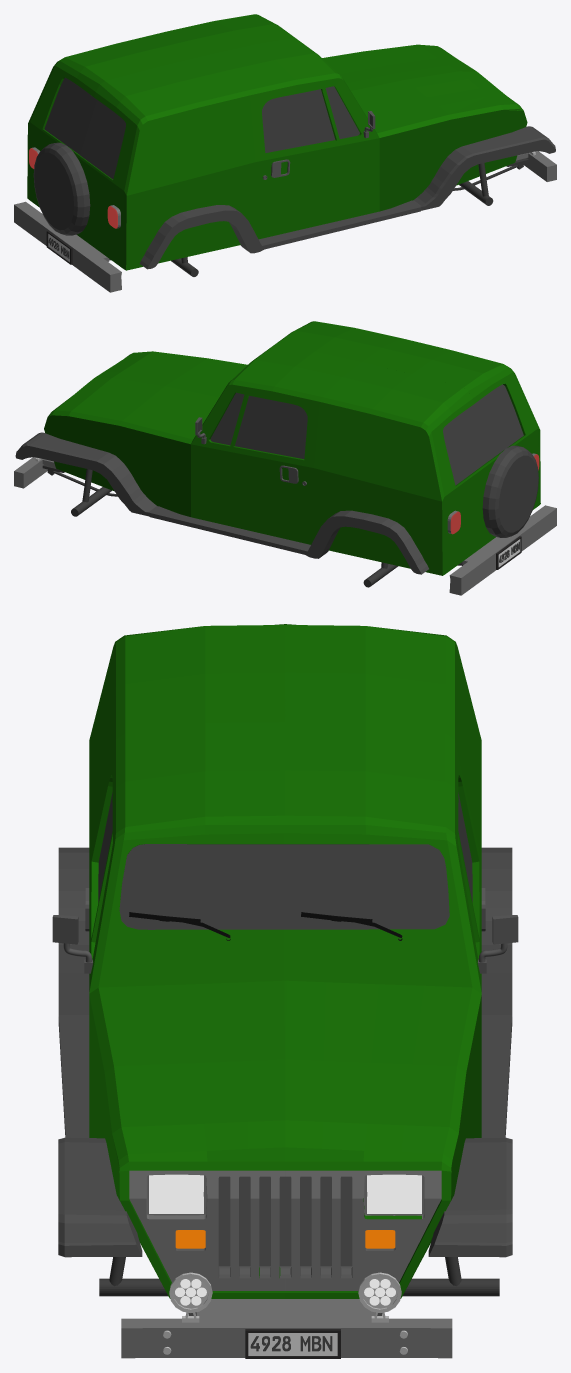
File: jeep.glb
3 renders of one model, top to bottom at view 1: azimuth 30°, elevation 25°; view 2: azimuth 150°, elevation 25°; view 3: azimuth 270°, elevation 25°, orthographic. The views are drawn at different scales.
Parts seen in each view (by area): view 1: Cube; view 2: Cube; view 3: Cube.
Part boxes in pixels (x1=…): Cube: x1=14, y1=14, x2=556, y2=292; Cube: x1=14, y1=321, x2=556, y2=595; Cube: x1=52, y1=624, x2=518, y2=1358.
Size of the model in its own units: 10.88 by 3.94 by 4.74.
